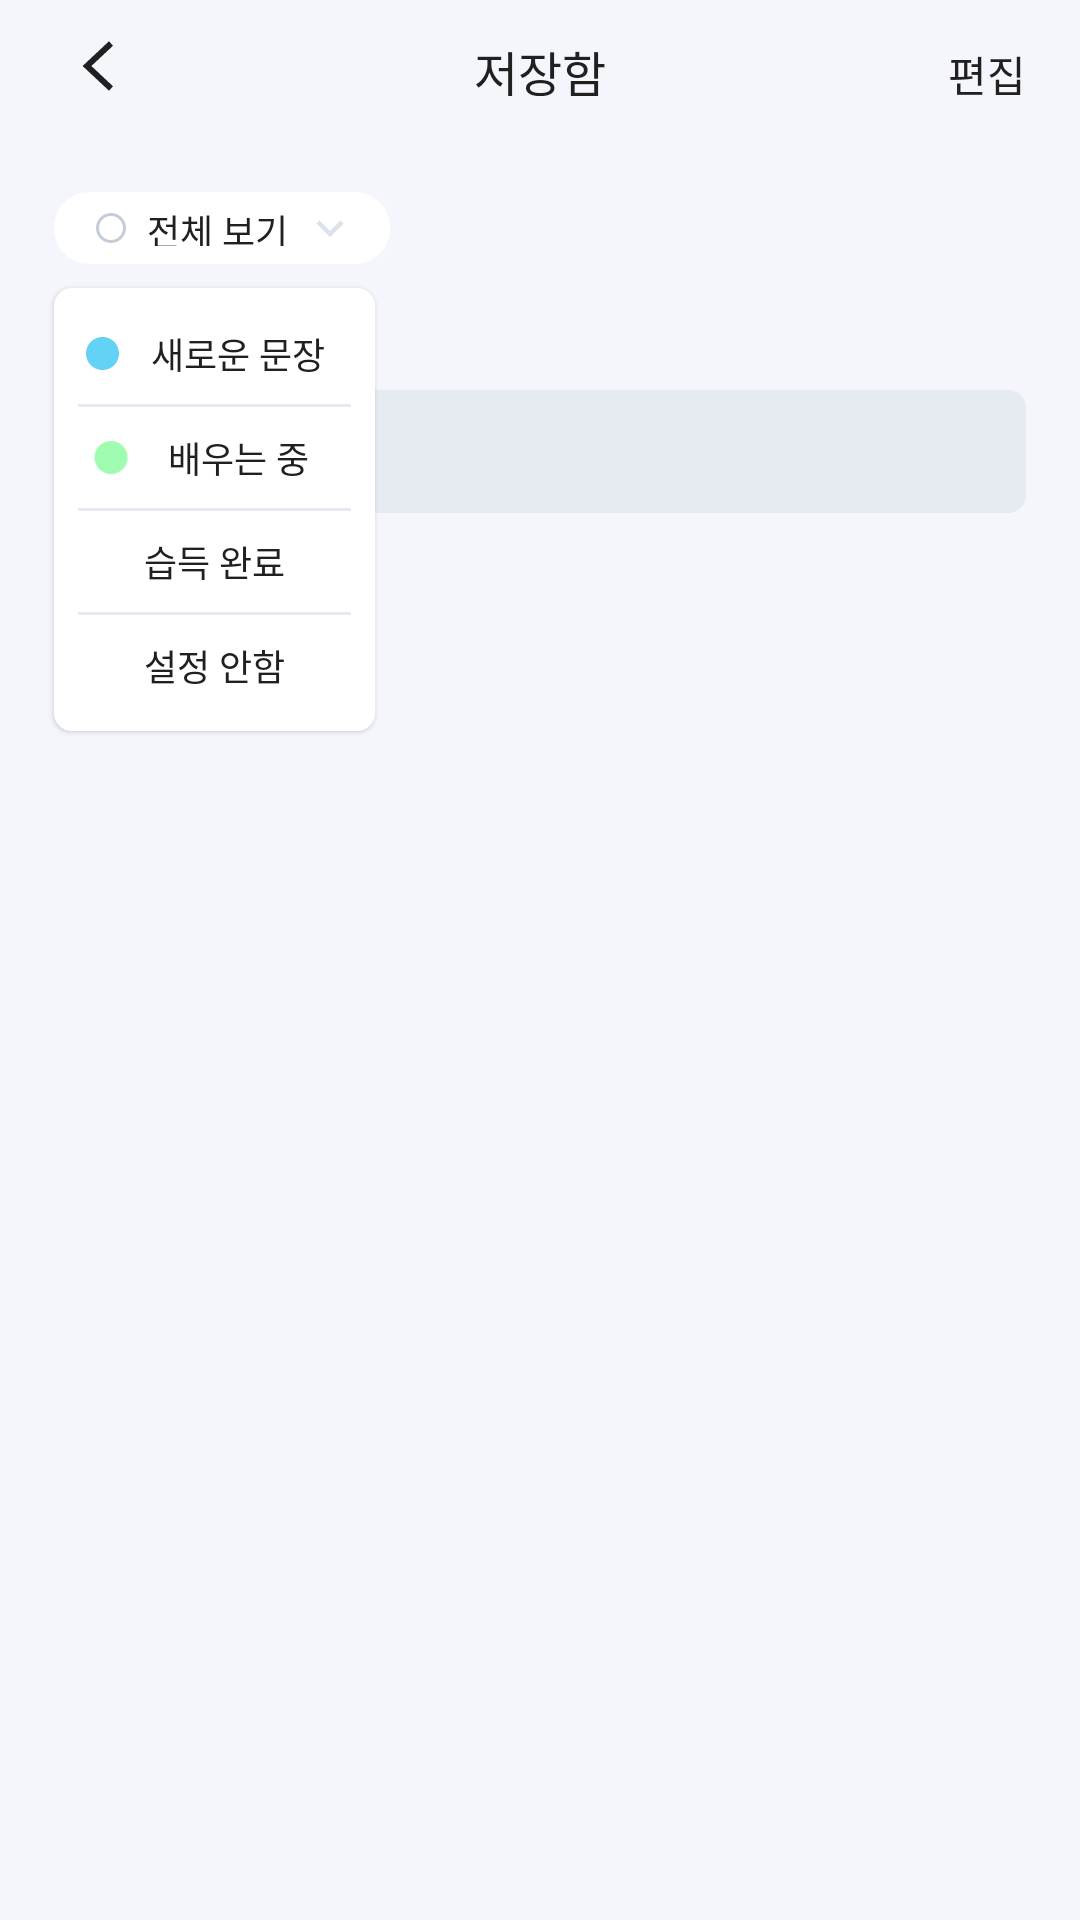

Where icons sit on this 1080x1920 app screen, as box(x1, y1, x2, y2):
expand down: box(317, 221, 343, 236)
prev: box(83, 41, 113, 91)
